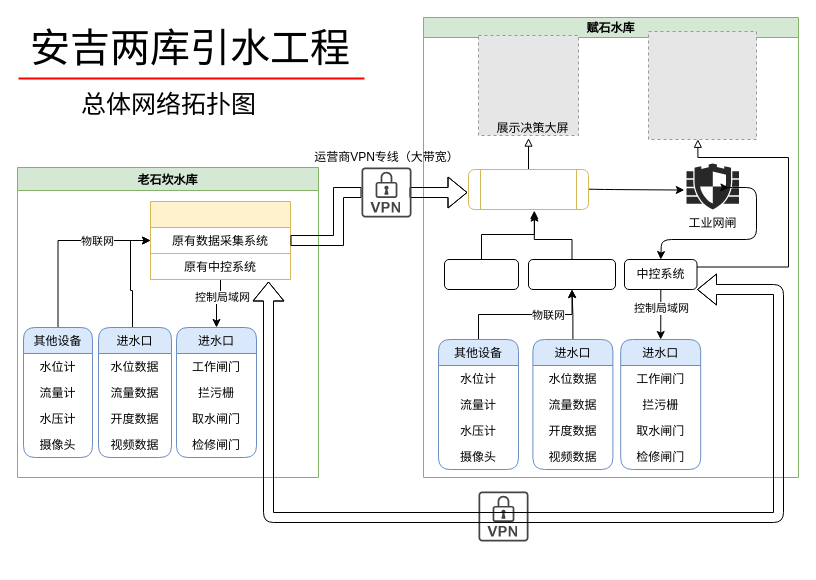
This 816x580 diagram has some shape labels left out. Grey dashed boxes stand in for pictures. The box of each missing label's shape, as (x1, y1, x2, y2) in pixels:
安吉两库引水工程智慧管护系统: (468, 168, 588, 210)
数据集成系统: (528, 258, 616, 290)
水厂数据: (444, 258, 518, 290)
老石坎水库现有平台: (150, 200, 290, 280)
运营商VPN专线（小带宽）: (478, 491, 528, 541)
